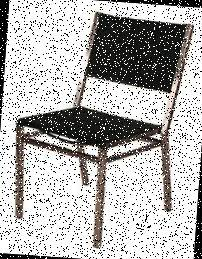Silla: (11, 9, 193, 252)
